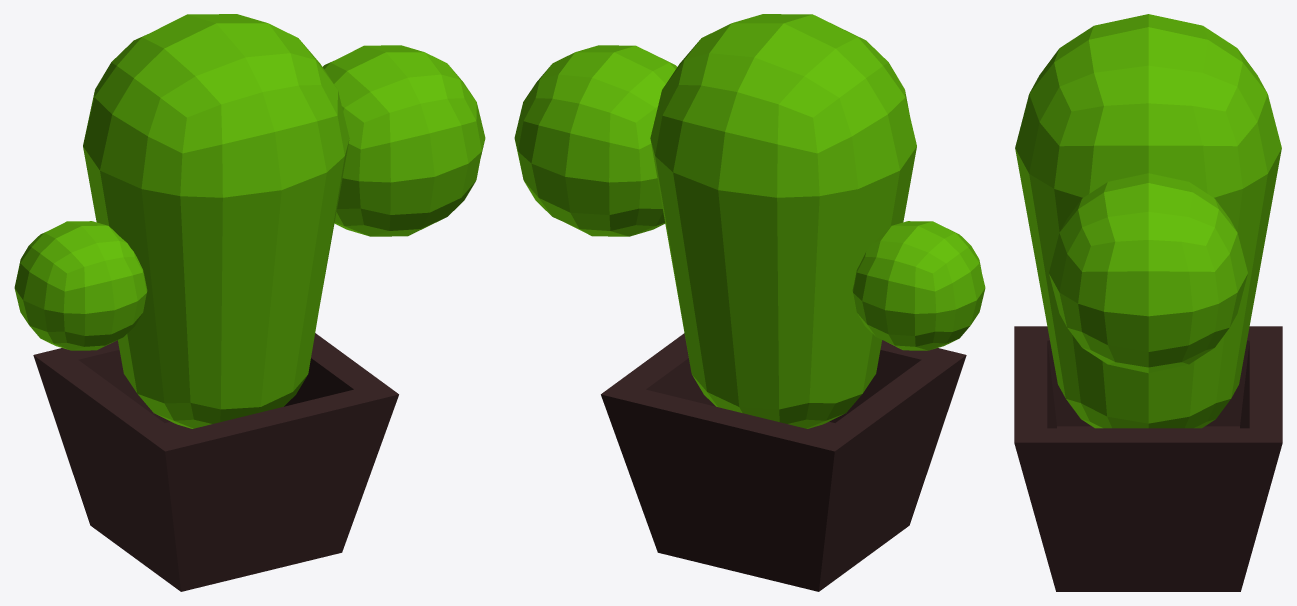
File: flowerpot.fbx
The picture shows the model from 3 angles, left to right: view 1: azimuth 30°, elevation 25°; view 2: azimuth 150°, elevation 25°; view 3: azimuth 270°, elevation 25°; orthographic projection.
Visible parts, largest first — view 1: flower, flower_pot; view 2: flower, flower_pot; view 3: flower, flower_pot.
Boxes of the visible parts, x1,y1,x2,y2 form: flower: (14, 14, 485, 428); flower_pot: (33, 333, 398, 591); flower: (514, 14, 985, 428); flower_pot: (601, 333, 966, 591); flower: (1015, 14, 1281, 428); flower_pot: (1014, 326, 1282, 591).
Size of the model in its own units: 21.25 by 23.29 by 10.8.
